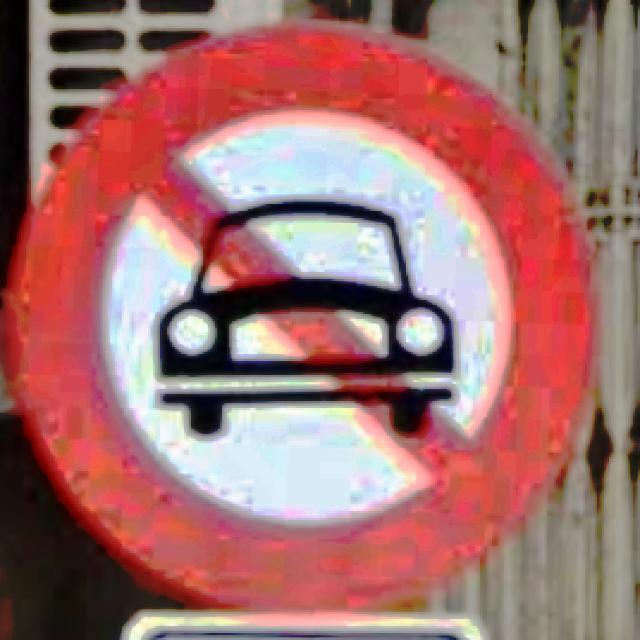nocar: (5, 21, 599, 612)
